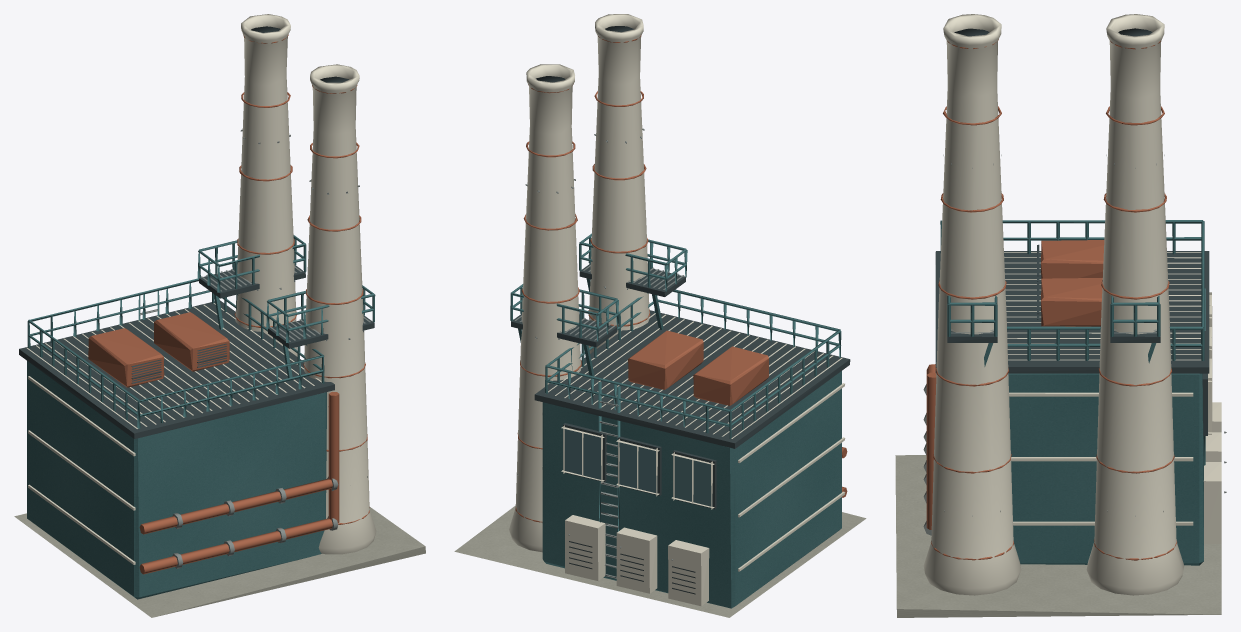
3 renders of one model, left to right at view 1: azimuth 30°, elevation 25°; view 2: azimuth 150°, elevation 25°; view 3: azimuth 270°, elevation 25°, orthographic. The views are drawn at different scales.
Parts seen in each view (by area): view 1: static_assembly_steel_001, static_assembly_ivory_001, static_assembly_dark_001, static_assembly_rust_001, static_assembly_concrete_001, static_assembly_bolt_001; view 2: static_assembly_ivory_001, static_assembly_steel_001, static_assembly_dark_001, static_assembly_rust_001, static_assembly_concrete_001, static_assembly_glass_001, static_assembly_bolt_001; view 3: static_assembly_ivory_001, static_assembly_steel_001, static_assembly_concrete_001, static_assembly_dark_001, static_assembly_rust_001, static_assembly_bolt_001.
Boxes of the visible parts, <box> form: static_assembly_steel_001: <box>27,235,375,599</box>; static_assembly_ivory_001: <box>26,14,376,564</box>; static_assembly_dark_001: <box>19,26,374,438</box>; static_assembly_rust_001: <box>88,34,369,574</box>; static_assembly_concrete_001: <box>14,507,425,617</box>; static_assembly_bolt_001: <box>139,129,370,568</box>; static_assembly_ivory_001: <box>509,14,845,606</box>; static_assembly_steel_001: <box>510,233,841,608</box>; static_assembly_dark_001: <box>511,26,850,594</box>; static_assembly_rust_001: <box>515,34,847,522</box>; static_assembly_concrete_001: <box>454,505,866,617</box>; static_assembly_glass_001: <box>564,429,712,506</box>; static_assembly_bolt_001: <box>515,128,684,578</box>; static_assembly_ivory_001: <box>923,14,1221,595</box>; static_assembly_steel_001: <box>940,220,1205,565</box>; static_assembly_concrete_001: <box>895,455,1221,617</box>; static_assembly_dark_001: <box>935,28,1209,435</box>; static_assembly_rust_001: <box>926,39,1177,560</box>; static_assembly_bolt_001: <box>923,154,1226,535</box>.
Size of the model in its own units: 8 by 13 by 7.
7 materials, 2 textured.
